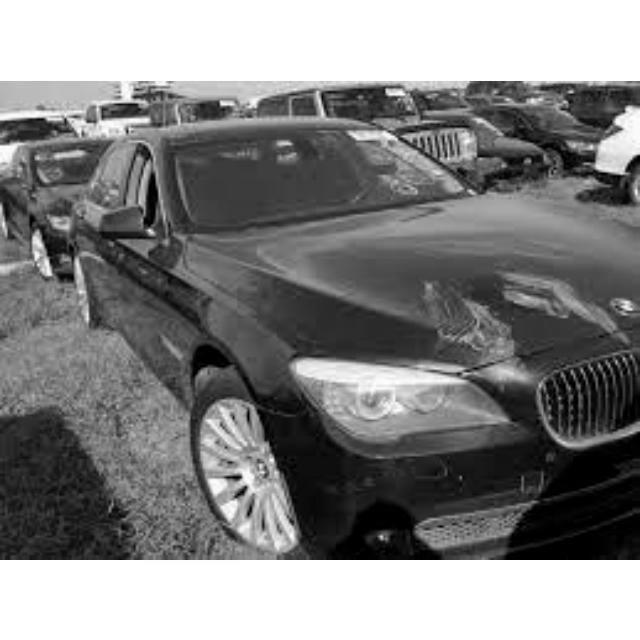bonnet-dent: (181, 199, 638, 394)
